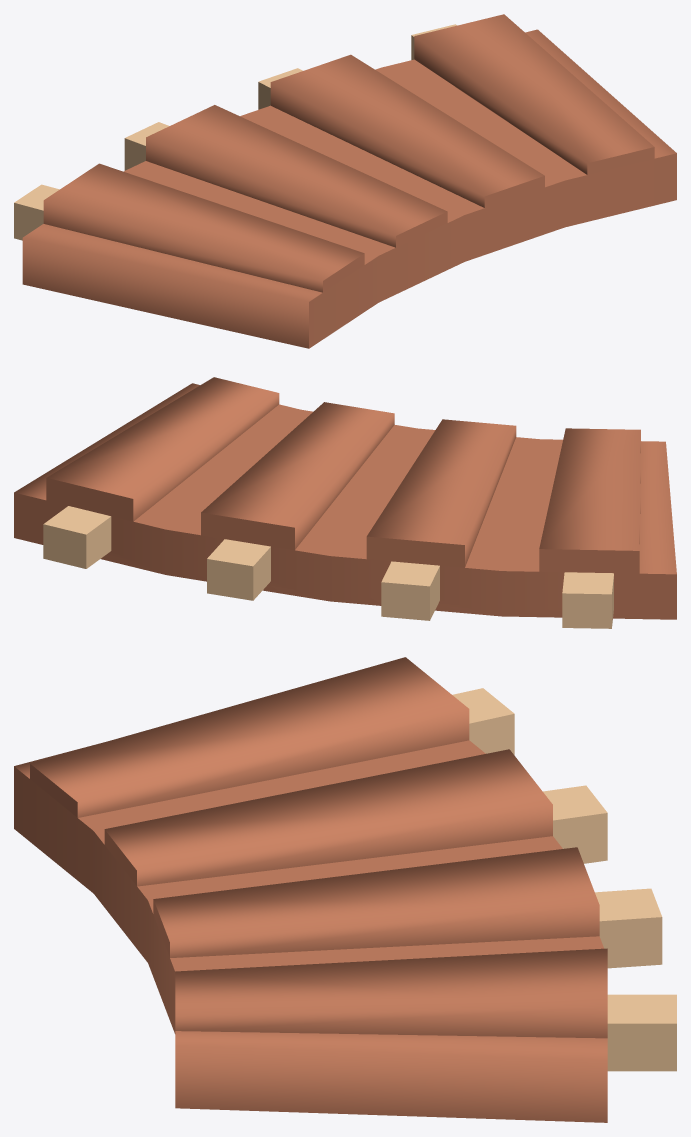
File: meatRibs.dae
3 renders of one model, top to bottom at view 1: azimuth 30°, elevation 25°; view 2: azimuth 150°, elevation 25°; view 3: azimuth 270°, elevation 25°, orthographic. The views are drawn at different scales.
Visible parts, largest first — view 1: meatRibs; view 2: meatRibs; view 3: meatRibs.
Part boxes in pixels (x1,y1,x2,y2): meatRibs: (14, 14, 676, 348); meatRibs: (14, 377, 676, 628); meatRibs: (14, 657, 676, 1122).
Bounding box in the file's own units: 0.5354 × 0.06 × 0.3834.
